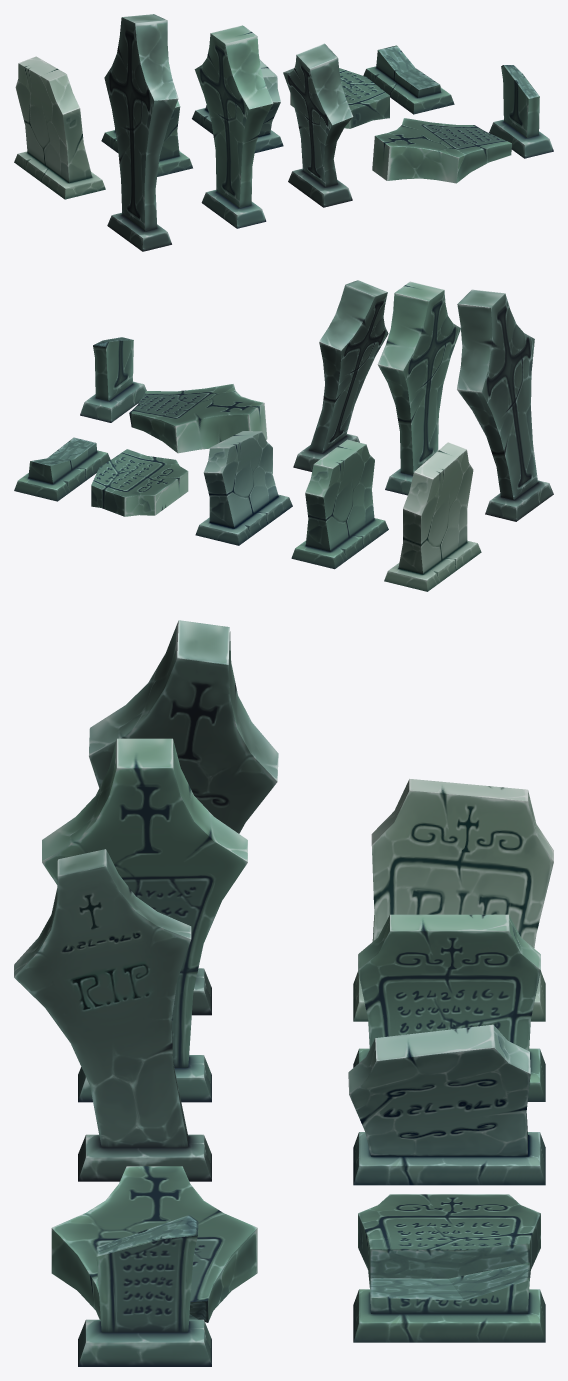
The model's file is tombstone_complete_set.FBX.
3 views of the same model, one above another, from view 1: azimuth 30°, elevation 25°; view 2: azimuth 150°, elevation 25°; view 3: azimuth 270°, elevation 25° (orthographic). The views are drawn at different scales.
Parts seen in each view (by area): view 1: tombstone_big_03, tombstone_big_01, tombstone_small_02, tombstone_big_02, tombstone_big_broken_02, tombstone_big_broken_01, tombstone_small_broken_01, tombstone_small_broken_02, tombstone_small_03, tombstone_small_01; view 2: tombstone_big_03, tombstone_big_01, tombstone_small_02, tombstone_big_02, tombstone_small_01, tombstone_small_03, tombstone_big_broken_02, tombstone_small_broken_02, tombstone_big_broken_01, tombstone_small_broken_01; view 3: tombstone_big_02, tombstone_small_03, tombstone_big_01, tombstone_small_02, tombstone_small_01, tombstone_big_03, tombstone_big_broken_01, tombstone_big_broken_02, tombstone_small_broken_02, tombstone_small_broken_01.
Boxes of the visible parts, bbox=[...] form: tombstone_big_03: bbox=[104, 14, 178, 251]; tombstone_big_01: bbox=[194, 25, 273, 228]; tombstone_small_02: bbox=[14, 56, 105, 199]; tombstone_big_02: bbox=[283, 43, 353, 207]; tombstone_big_broken_02: bbox=[372, 118, 511, 183]; tombstone_big_broken_01: bbox=[489, 65, 553, 158]; tombstone_small_broken_01: bbox=[363, 45, 454, 114]; tombstone_small_broken_02: bbox=[290, 68, 389, 128]; tombstone_small_03: bbox=[192, 59, 283, 152]; tombstone_small_01: bbox=[101, 100, 192, 176]; tombstone_big_03: bbox=[457, 289, 553, 521]; tombstone_big_01: bbox=[377, 281, 460, 495]; tombstone_small_02: bbox=[384, 442, 481, 591]; tombstone_big_02: bbox=[293, 280, 388, 471]; tombstone_small_01: bbox=[291, 439, 388, 569]; tombstone_small_03: bbox=[195, 431, 292, 545]; tombstone_big_broken_02: bbox=[129, 384, 267, 453]; tombstone_small_broken_02: bbox=[91, 449, 188, 516]; tombstone_big_broken_01: bbox=[80, 337, 146, 422]; tombstone_small_broken_01: bbox=[14, 437, 110, 501]; tombstone_big_02: bbox=[14, 849, 211, 1181]; tombstone_small_03: bbox=[348, 1024, 545, 1185]; tombstone_big_01: bbox=[42, 738, 247, 1102]; tombstone_small_02: bbox=[353, 778, 553, 1021]; tombstone_small_01: bbox=[353, 914, 545, 1101]; tombstone_big_03: bbox=[89, 620, 278, 1015]; tombstone_big_broken_01: bbox=[78, 1215, 211, 1366]; tombstone_big_broken_02: bbox=[51, 1166, 257, 1322]; tombstone_small_broken_02: bbox=[358, 1194, 540, 1288]; tombstone_small_broken_01: bbox=[353, 1262, 545, 1342].
Size of the model in its own units: 42.01 by 19.88 by 24.96.
